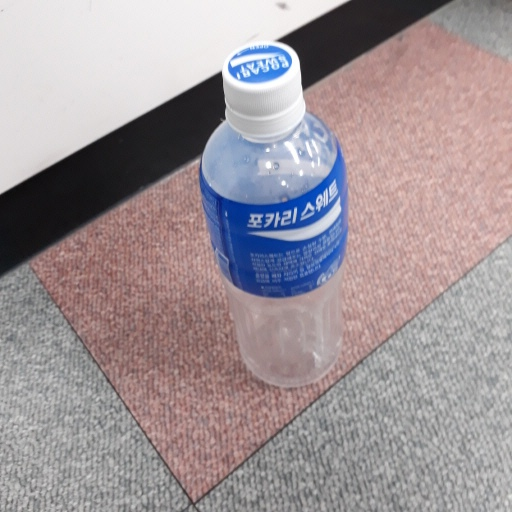Plastic_0: (202, 42, 350, 388)
